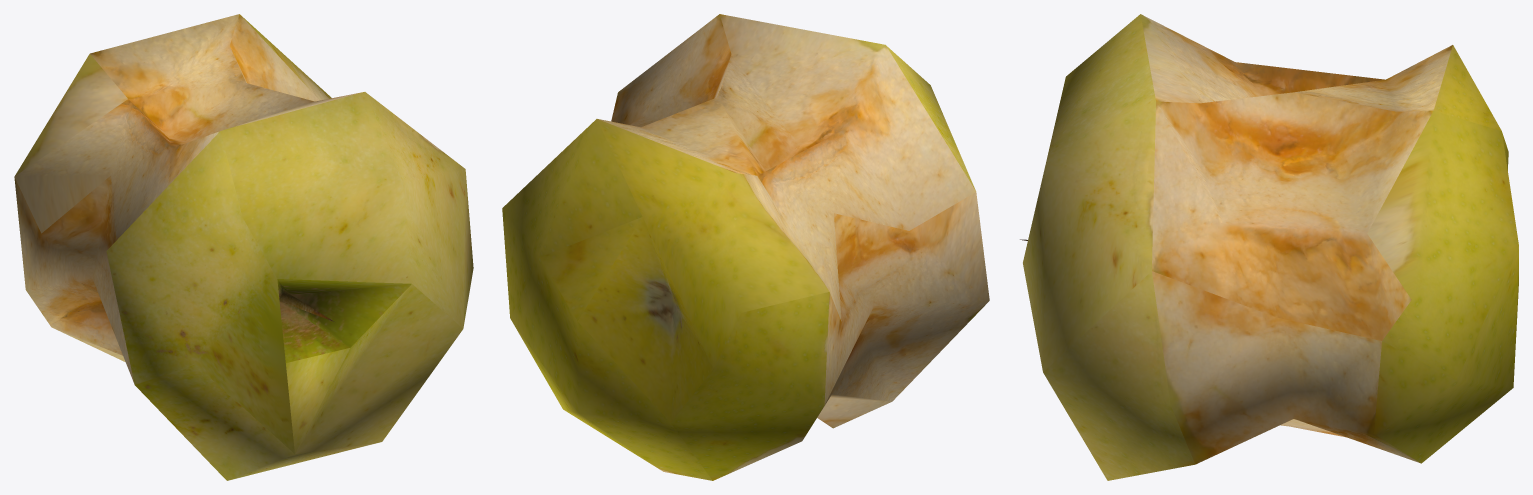
The model's file is BittenApple_1.obj.
The picture shows the model from 3 angles, left to right: view 1: azimuth 30°, elevation 25°; view 2: azimuth 150°, elevation 25°; view 3: azimuth 270°, elevation 25°; orthographic projection. The views are drawn at different scales.
Parts seen in each view (by area): view 1: tgyociqpa_LOD0_TIER2_000; view 2: tgyociqpa_LOD0_TIER2_000; view 3: tgyociqpa_LOD0_TIER2_000.
Boxes of the visible parts, x1,y1,x2,y2 form: tgyociqpa_LOD0_TIER2_000: (14, 14, 473, 480); tgyociqpa_LOD0_TIER2_000: (502, 14, 989, 480); tgyociqpa_LOD0_TIER2_000: (1020, 14, 1518, 480).
Bounding box in the file's own units: 0.8567 × 0.8135 × 0.8864.
